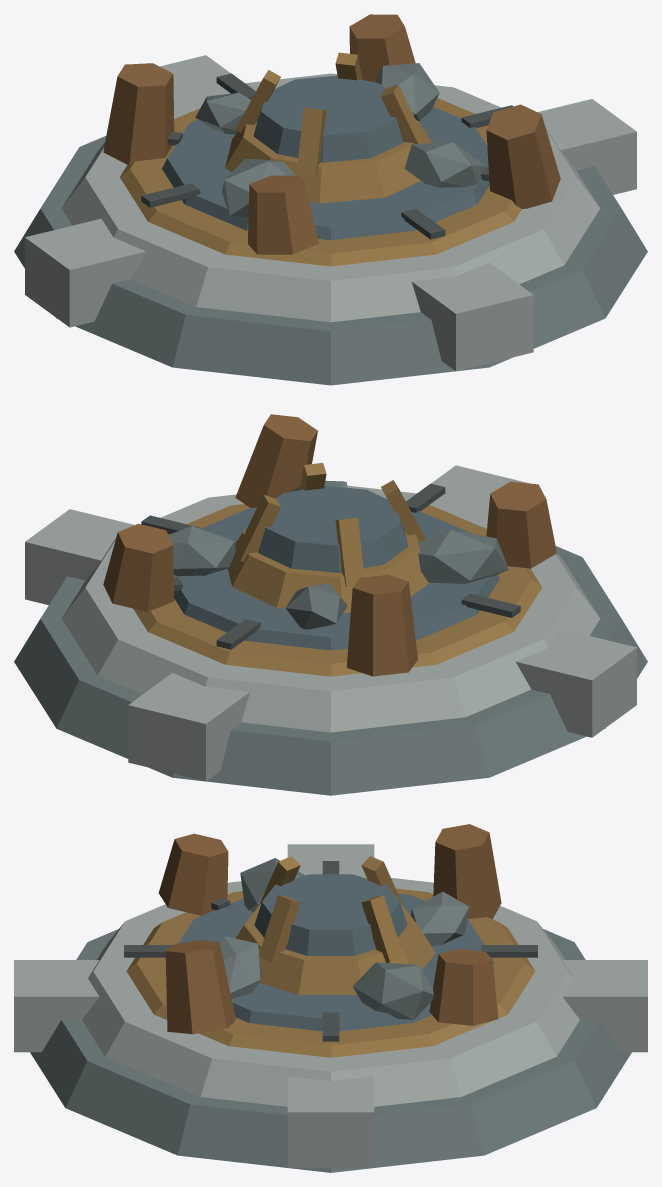
The model's file is ward_destroyed.glb.
3 renders of one model, top to bottom at view 1: azimuth 30°, elevation 25°; view 2: azimuth 150°, elevation 25°; view 3: azimuth 270°, elevation 25°, orthographic. The views are drawn at different scales.
Visible parts, largest first — view 1: Ward_Foundation_Base.004, Ward_Foundation_Upper.004, Ward_Foundation_Core.004, Ward_Foundation_Inlay.004, Ward_Foundation_Buttress_4.004, Ward_Foundation_Socket_Well.004, Ward_Foundation_Buttress_3.004, Ward_Foundation_Socket.004, Ward_Destroyed_Stump_4, Ward_Destroyed_Stump_2, Ward_Foundation_Buttress_1.004, Ward_Destroyed_Stump_3 (+13 smaller); view 2: Ward_Foundation_Base.004, Ward_Foundation_Upper.004, Ward_Foundation_Inlay.004, Ward_Foundation_Core.004, Ward_Foundation_Buttress_2.004, Ward_Foundation_Socket_Well.004, Ward_Foundation_Buttress_3.004, Ward_Destroyed_Stump_2, Ward_Foundation_Buttress_1.004, Ward_Foundation_Socket.004, Ward_Destroyed_Stump_1, Ward_Destroyed_Stump_4 (+12 smaller); view 3: Ward_Foundation_Base.004, Ward_Foundation_Upper.004, Ward_Foundation_Inlay.004, Ward_Foundation_Core.004, Ward_Foundation_Buttress_1.004, Ward_Foundation_Socket_Well.004, Ward_Foundation_Buttress_2.004, Ward_Foundation_Buttress_4.004, Ward_Foundation_Socket.004, Ward_Destroyed_Stump_4, Ward_Destroyed_Stump_2, Ward_Destroyed_Stump_3 (+13 smaller).
Part boxes in pixels (x1,y1,x2,y2): Ward_Foundation_Base.004: (14,136,647,385); Ward_Foundation_Upper.004: (61,73,600,322); Ward_Foundation_Core.004: (162,106,489,240); Ward_Foundation_Inlay.004: (120,98,521,266); Ward_Foundation_Buttress_4.004: (412,262,533,371); Ward_Foundation_Socket_Well.004: (253,75,403,162); Ward_Foundation_Buttress_3.004: (25,218,145,327); Ward_Foundation_Socket.004: (225,119,432,203); Ward_Destroyed_Stump_4: (486,104,560,208); Ward_Destroyed_Stump_2: (103,63,174,165); Ward_Foundation_Buttress_1.004: (538,99,636,194); Ward_Destroyed_Stump_3: (248,175,318,254); Ward_Foundation_Base.004: (14,546,647,795); Ward_Foundation_Upper.004: (61,485,600,732); Ward_Foundation_Inlay.004: (133,504,542,676); Ward_Foundation_Core.004: (174,507,499,650); Ward_Foundation_Buttress_2.004: (128,673,249,781); Ward_Foundation_Socket_Well.004: (258,486,408,572); Ward_Foundation_Buttress_3.004: (516,629,636,737); Ward_Destroyed_Stump_2: (346,574,417,676); Ward_Foundation_Buttress_1.004: (25,509,134,605); Ward_Foundation_Socket.004: (227,529,429,613); Ward_Destroyed_Stump_1: (103,523,174,611); Ward_Destroyed_Stump_4: (235,414,317,507); Ward_Foundation_Base.004: (30,929,631,1172); Ward_Foundation_Upper.004: (82,872,579,1106); Ward_Foundation_Inlay.004: (126,888,535,1057); Ward_Foundation_Core.004: (178,893,494,1031); Ward_Foundation_Buttress_1.004: (287,1076,374,1167); Ward_Foundation_Socket_Well.004: (254,874,407,955); Ward_Foundation_Buttress_2.004: (562,960,647,1052); Ward_Foundation_Buttress_4.004: (14,960,99,1052); Ward_Foundation_Socket.004: (235,903,435,994); Ward_Destroyed_Stump_4: (165,940,235,1034); Ward_Destroyed_Stump_2: (433,824,501,919); Ward_Destroyed_Stump_3: (158,833,228,915).
Bounding box in the file's own units: 2.48 × 0.7119 × 2.48.
